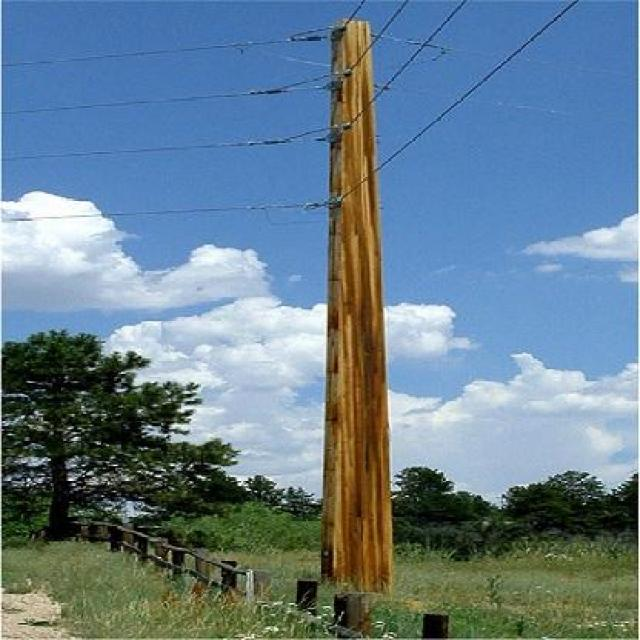pole: (252, 12, 451, 590)
